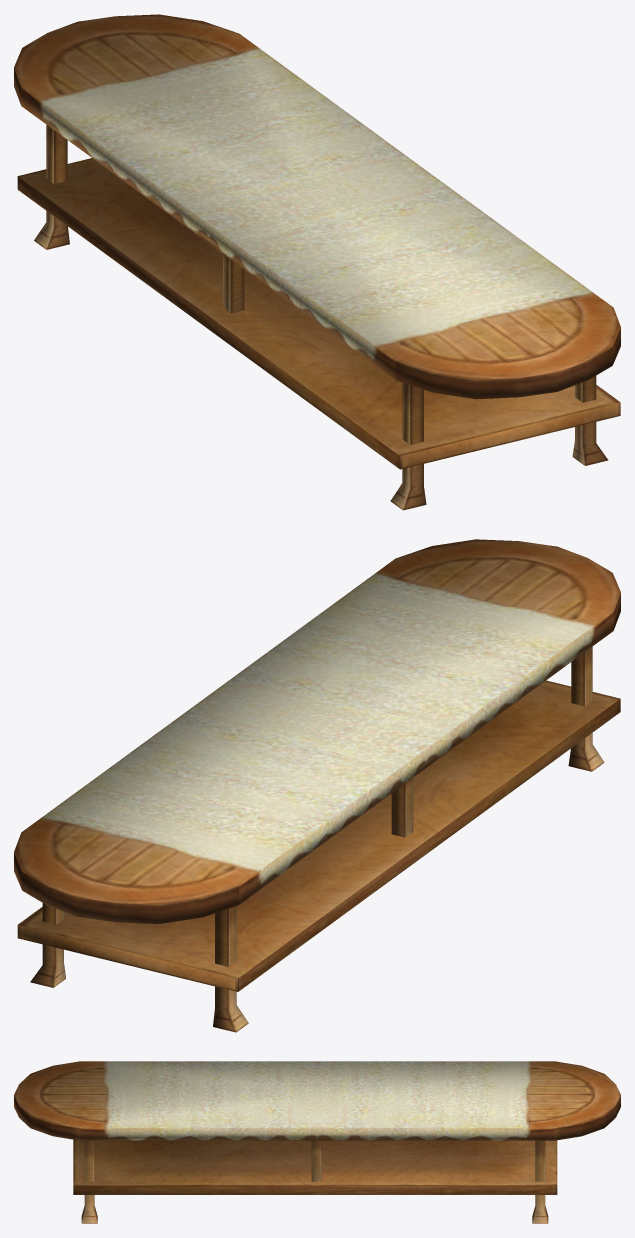
Rendered from a_SWItable01.glb.
The picture shows the model from 3 angles, top to bottom: view 1: azimuth 30°, elevation 25°; view 2: azimuth 150°, elevation 25°; view 3: azimuth 270°, elevation 25°; orthographic projection. The views are drawn at different scales.
Parts seen in each view (by area): view 1: a_SWItable01; view 2: a_SWItable01; view 3: a_SWItable01.
Part boxes in pixels (<box>): a_SWItable01: <box>14,14,620,510</box>; a_SWItable01: <box>14,539,620,1032</box>; a_SWItable01: <box>14,1061,620,1223</box>.
Bounding box in the file's own units: 0.9986 × 0.6591 × 3.76.
Materials: 1 (1 with a texture image).
